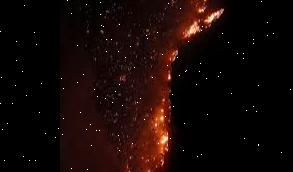fire: (113, 80, 179, 172), (158, 0, 228, 79)
